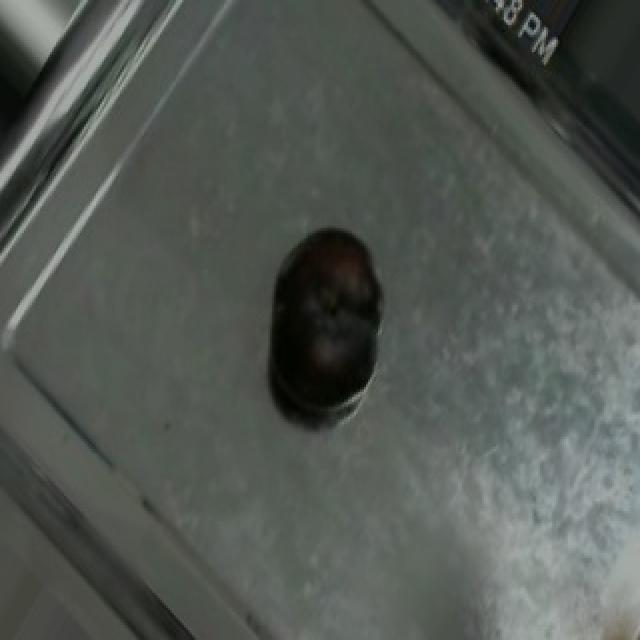Fruit: (256, 206, 402, 422)
